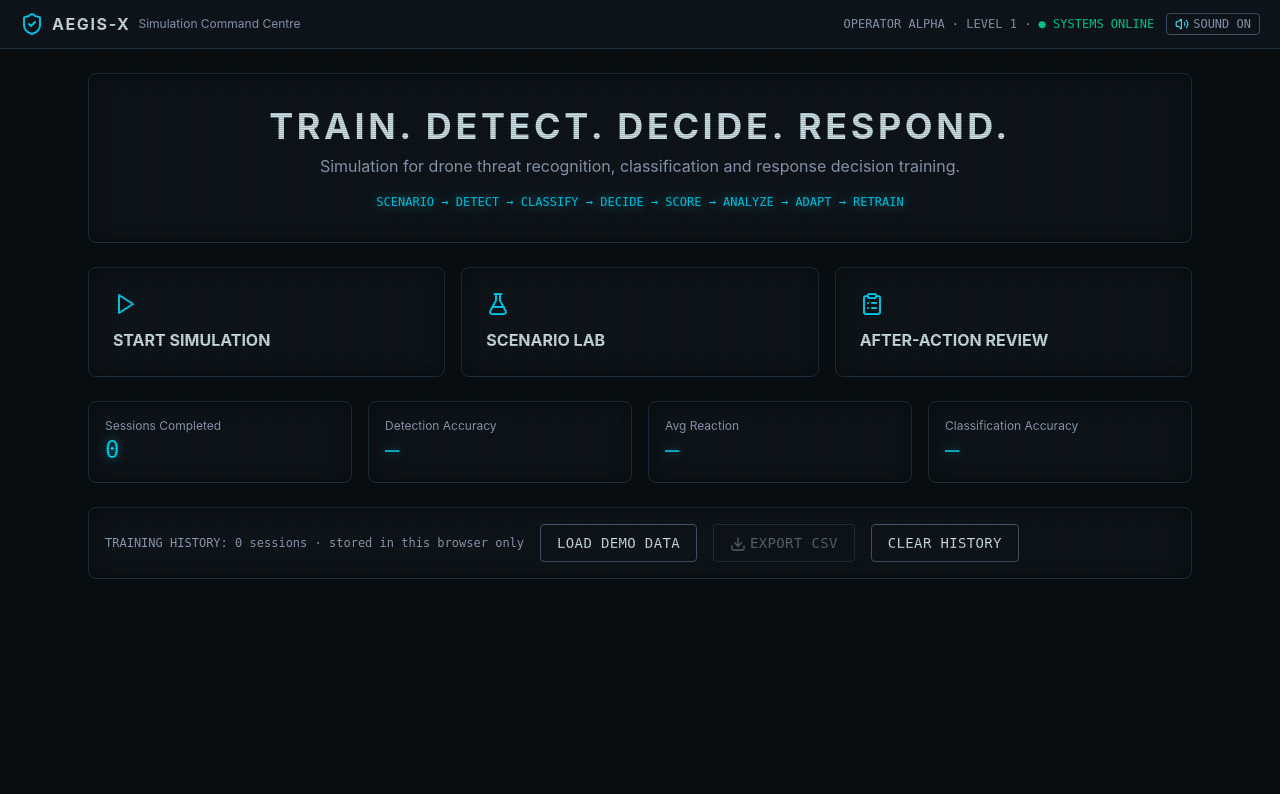
CSV export in the UI › reports a blocked download instead of crashing
This screenshot has width=1280, height=794.
Click the button "LOAD DEMO DATA": (619, 543) [540,524,697,562]
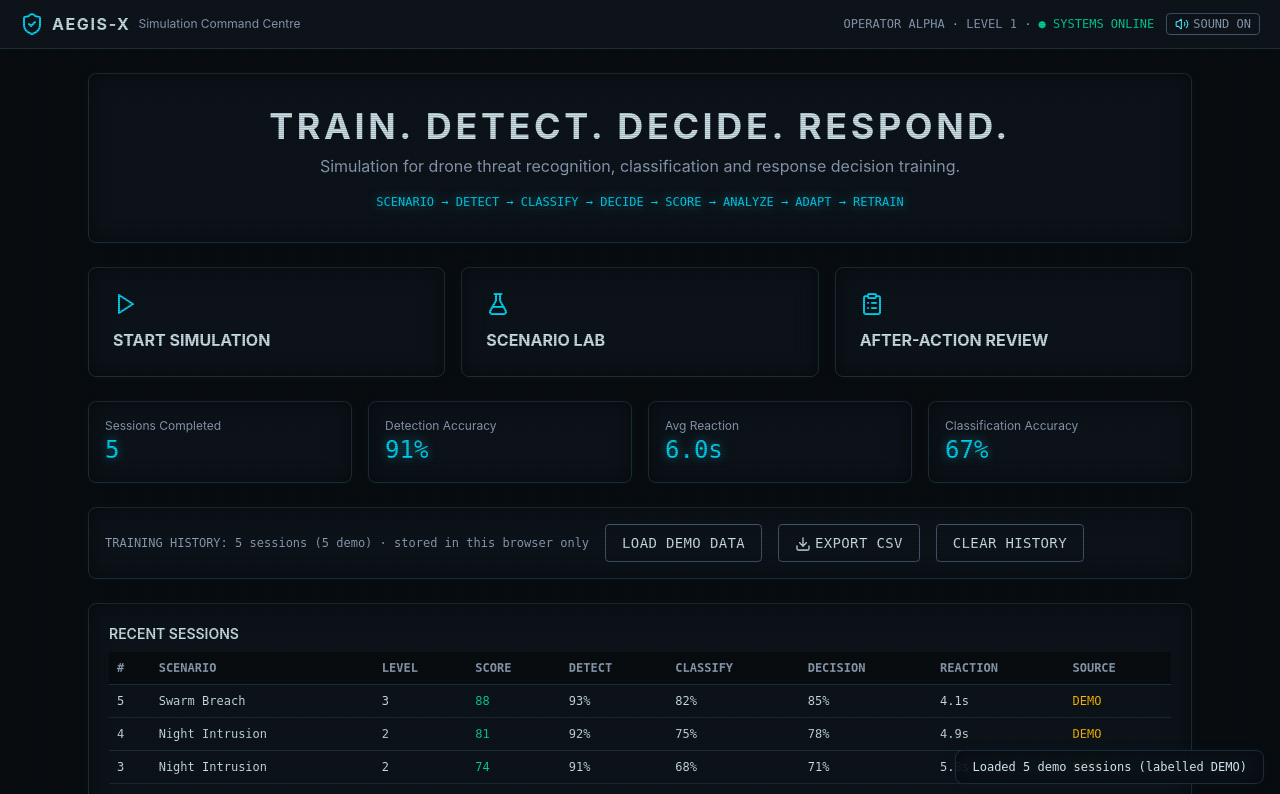
Click the button "EXPORT CSV": (849, 543) [778,524,920,562]
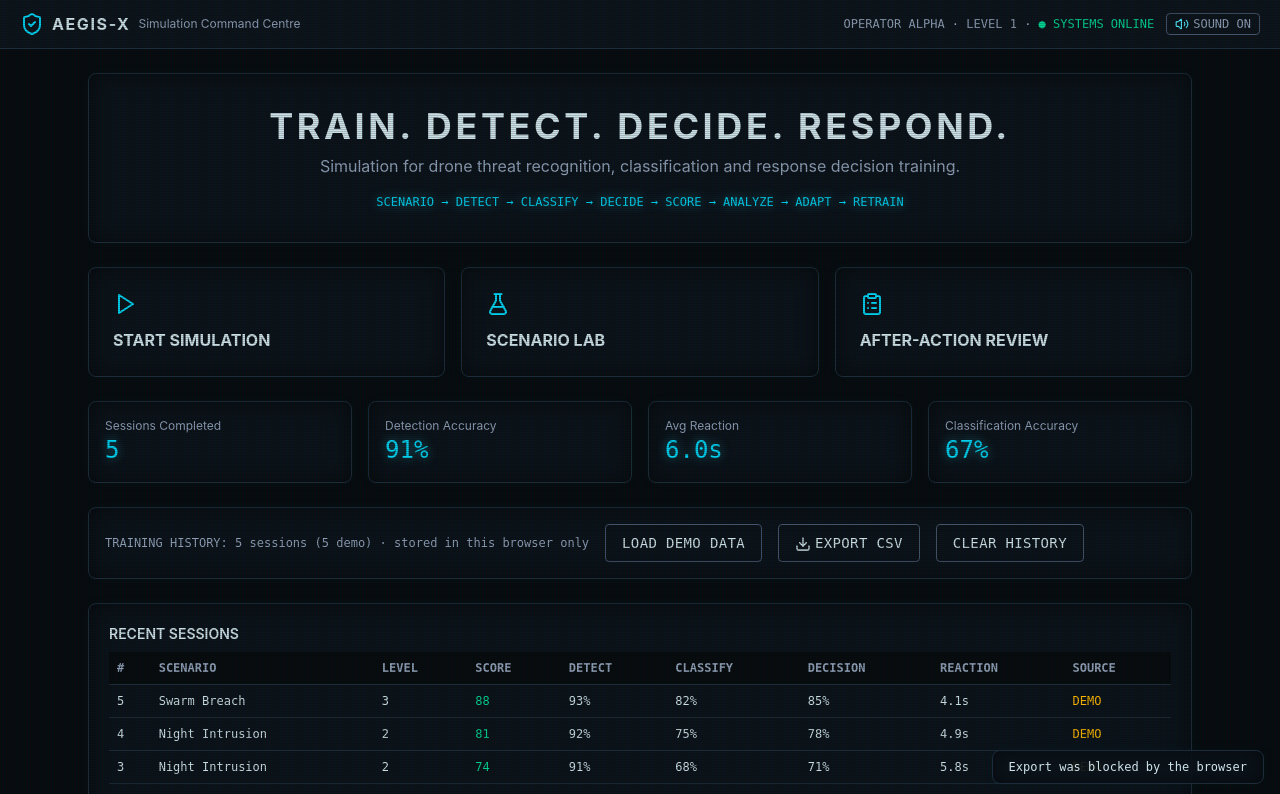
Expected: the message with test id "toast" reads "Export was blocked by the browser", [1009,760,1247,774]
